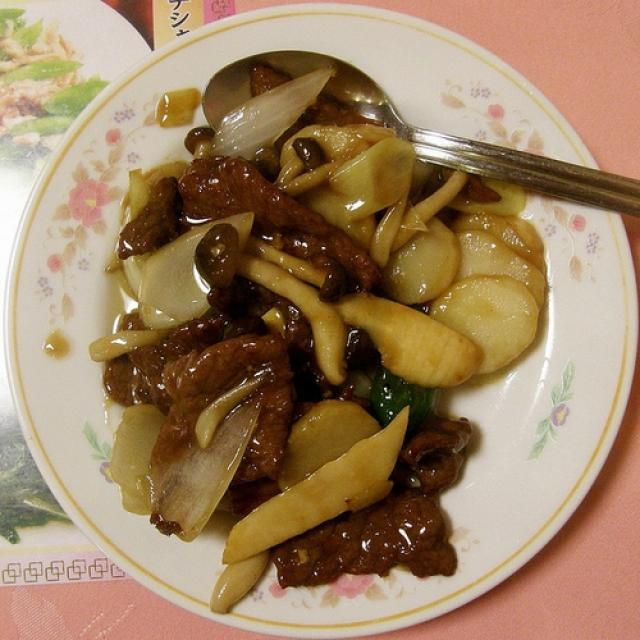牛肉菜式: (8, 26, 606, 610)
